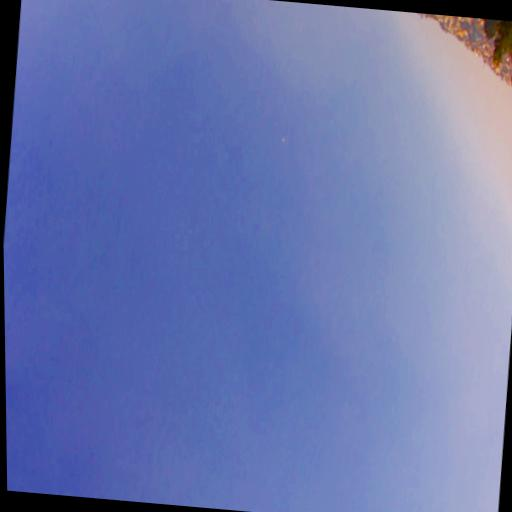drones: (280, 136, 287, 144)
